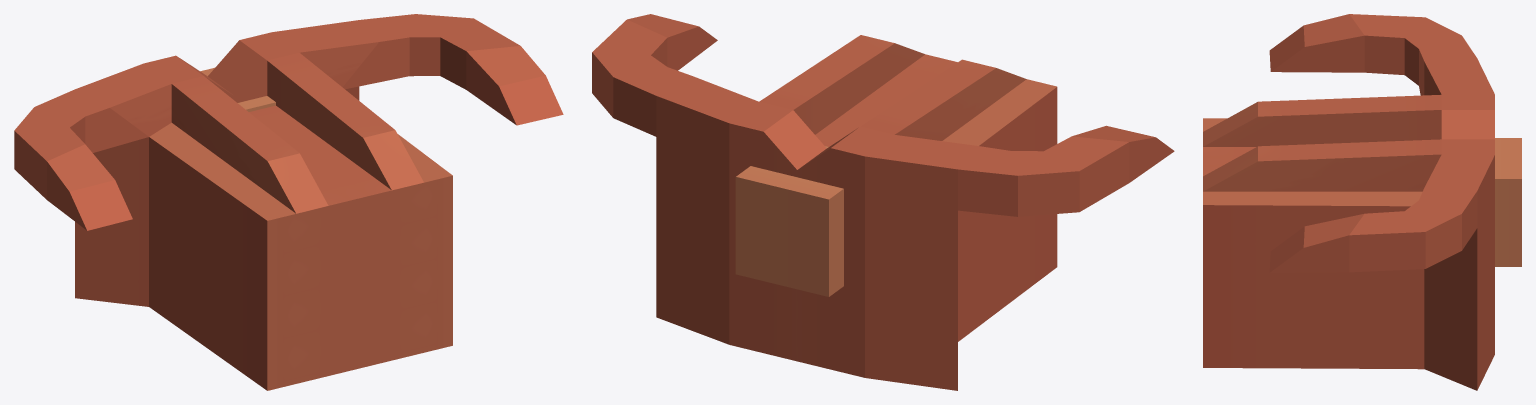
The model's file is ArrowTrap.glb.
The picture shows the model from 3 angles, left to right: view 1: azimuth 30°, elevation 25°; view 2: azimuth 150°, elevation 25°; view 3: azimuth 270°, elevation 25°; orthographic projection. The views are drawn at different scales.
Parts seen in each view (by area): view 1: DartBase; view 2: DartBase, DartBarrel; view 3: DartBase, DartBarrel.
Boxes of the visible parts, bbox=[...] form: DartBase: bbox=[14, 14, 563, 390]; DartBase: bbox=[592, 14, 1174, 390]; DartBarrel: bbox=[735, 146, 843, 296]; DartBase: bbox=[1203, 14, 1494, 390]; DartBarrel: bbox=[1495, 138, 1521, 266].
Bounding box in the file's own units: 0.8072 × 0.3382 × 0.4887.
2 materials, 2 textured.
